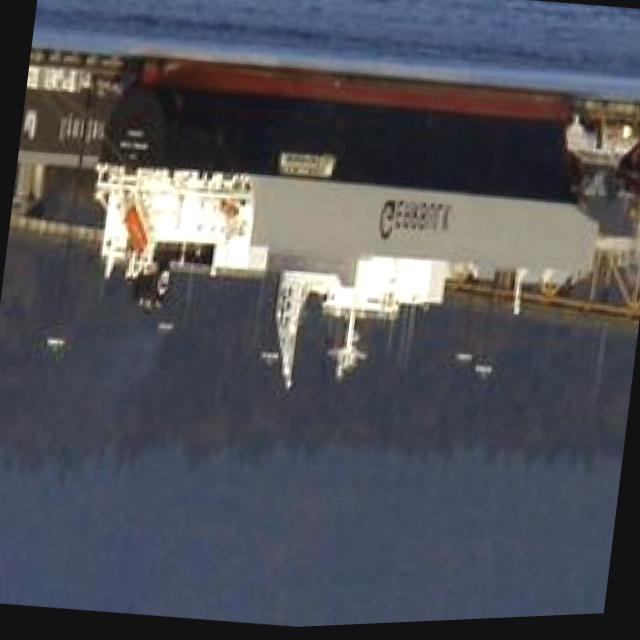ship2: (92, 57, 598, 389)
